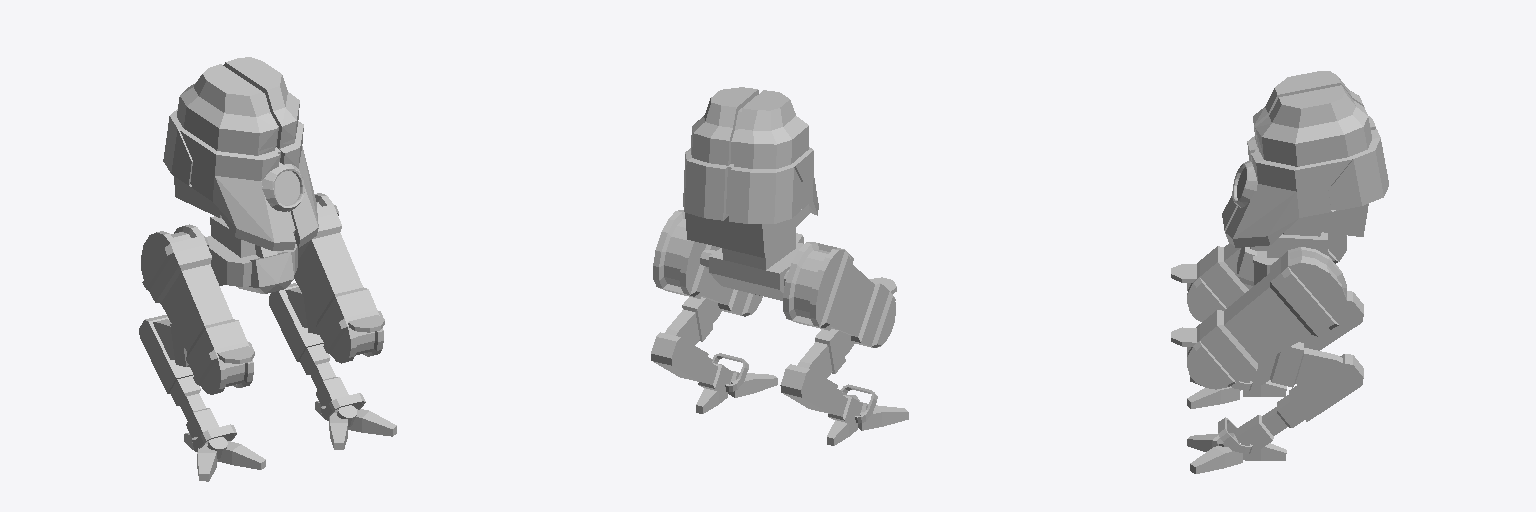
Rendered from Leela.obj.
The picture shows the model from 3 angles: view 1: azimuth 30°, elevation 25°; view 2: azimuth 150°, elevation 25°; view 3: azimuth 270°, elevation 25°; orthographic projection.
Visible parts, largest first — view 1: Leela_Cube.004; view 2: Leela_Cube.004; view 3: Leela_Cube.004.
Part boxes in pixels (x1,y1,x2,y2): Leela_Cube.004: (139,57,396,481); Leela_Cube.004: (651,87,908,445); Leela_Cube.004: (1171,71,1388,473).
Bounding box in the file's own units: 2.96 × 4.89 × 2.83.